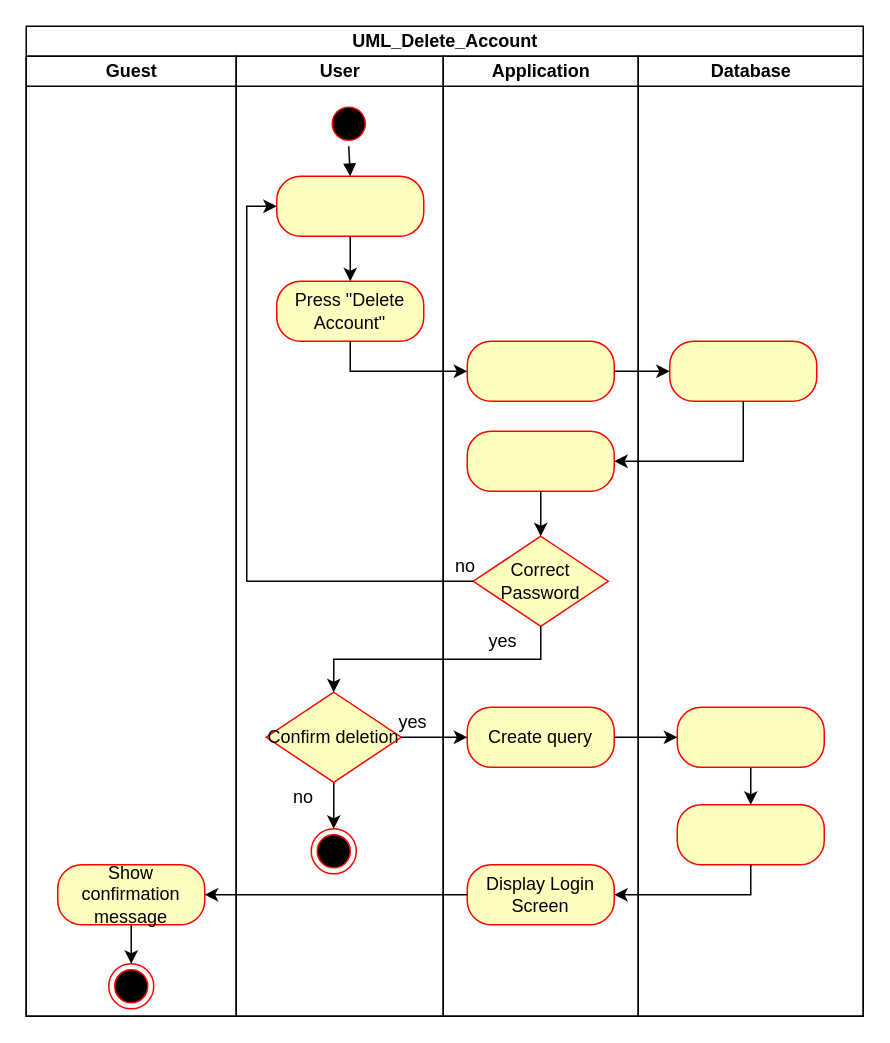
Image size: 890x1043. Some labels were removed from this diagram. The shapes that lost their labels are listed below. From the top down, each one's centre as x and y in pixels, then its label:
point (349, 205): Enter current password
point (540, 370): Hash both passwords
point (742, 370): Get current password hash
point (540, 460): Compare Hashes
point (750, 736): Remove user relations
point (750, 834): Remove user
